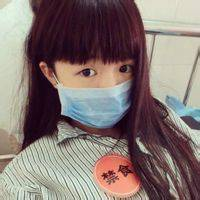face_mask: (57, 28, 135, 127)
